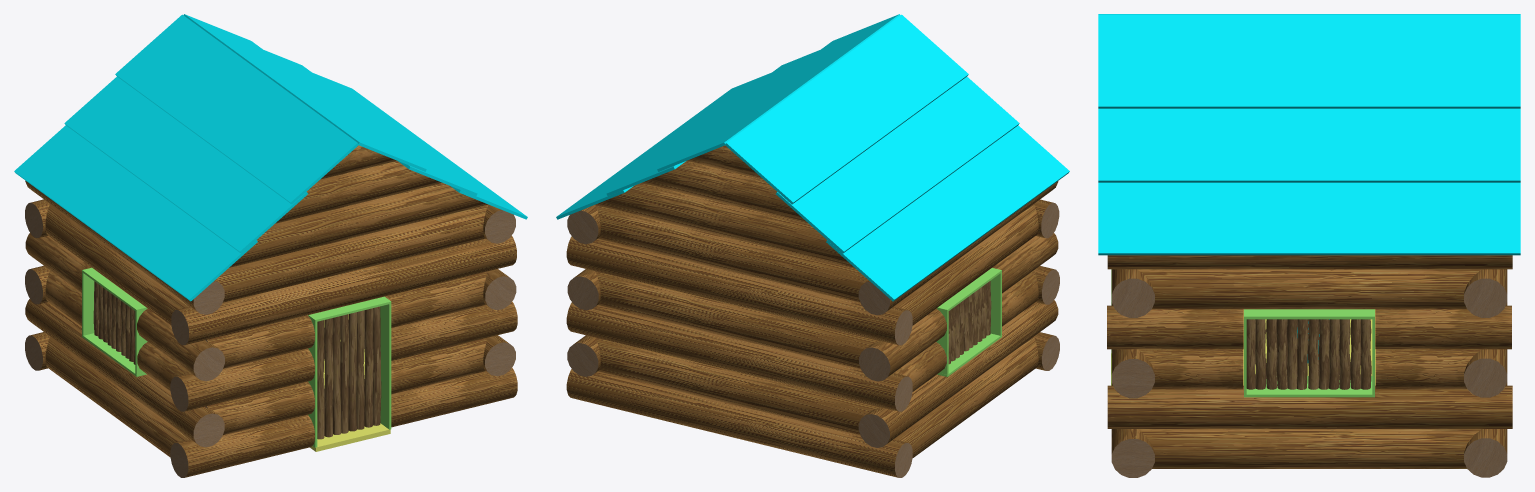
The model's file is WoodShelter.fbx.
3 renders of one model, left to right at view 1: azimuth 30°, elevation 25°; view 2: azimuth 150°, elevation 25°; view 3: azimuth 270°, elevation 25°, orthographic. The views are drawn at different scales.
Visible parts, largest first — view 1: ShelterModel, DoorModel, LeftWindowModel1, FloorModel, LeftWindowModel2; view 2: ShelterModel, LeftWindowModel2, LeftWindowModel1; view 3: ShelterModel, RightWindowModel1, RightWindowModel2, FloorModel.
Part boxes in pixels (bbox=[...]): ShelterModel: bbox=[14, 14, 527, 477]; DoorModel: bbox=[317, 306, 381, 439]; LeftWindowModel1: bbox=[93, 281, 121, 351]; FloorModel: bbox=[310, 314, 390, 451]; LeftWindowModel2: bbox=[120, 301, 135, 364]; ShelterModel: bbox=[556, 14, 1069, 477]; LeftWindowModel2: bbox=[964, 281, 991, 351]; LeftWindowModel1: bbox=[948, 300, 964, 364]; ShelterModel: bbox=[1098, 14, 1520, 477]; RightWindowModel1: bbox=[1307, 319, 1371, 389]; RightWindowModel2: bbox=[1246, 319, 1308, 389]; FloorModel: bbox=[1111, 309, 1375, 385].
Bounding box in the file's own units: 2670 × 2297 × 2399.
